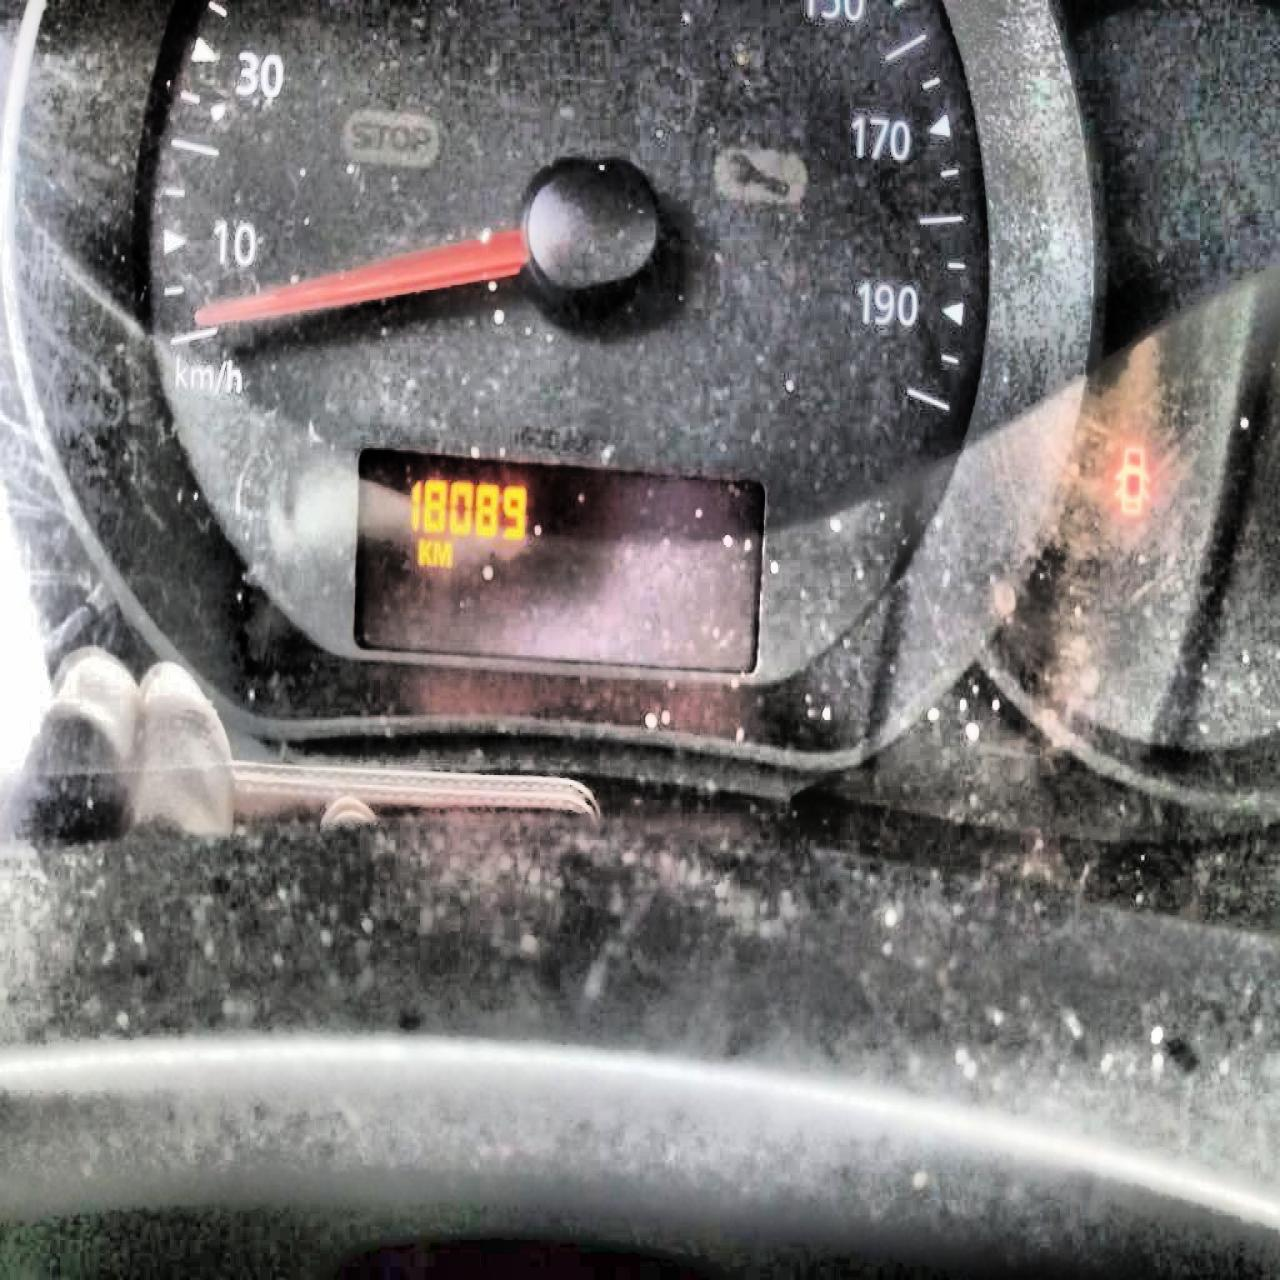0: (448, 477, 472, 536)
1: (409, 475, 421, 532)
8: (474, 481, 501, 537), (422, 475, 448, 533)
9: (502, 479, 526, 538)
X: (433, 537, 452, 566), (416, 535, 433, 565)
odometer: (348, 434, 770, 682)
